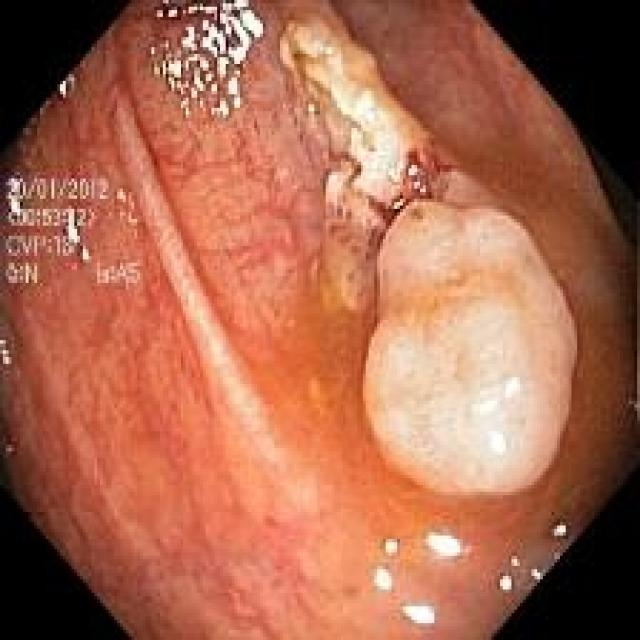Polyps: (364, 200, 578, 496)
